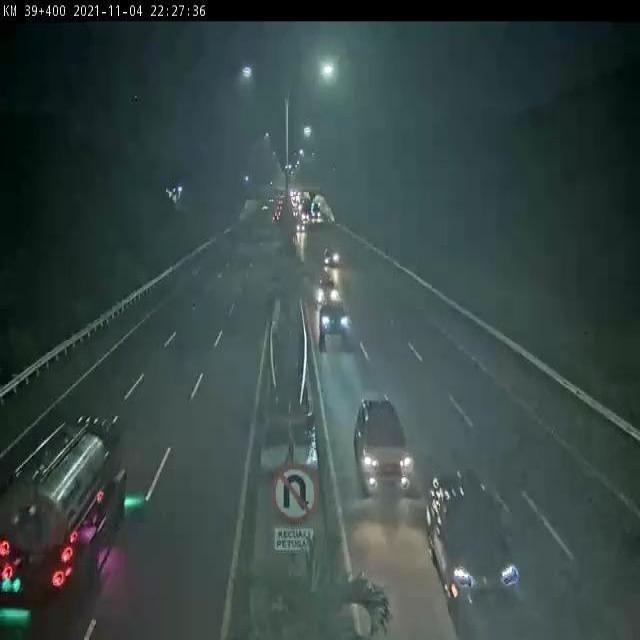car: (428, 472, 520, 597), (355, 394, 413, 490), (319, 303, 348, 347), (314, 278, 338, 306)
truck-l-: (0, 420, 126, 599)
